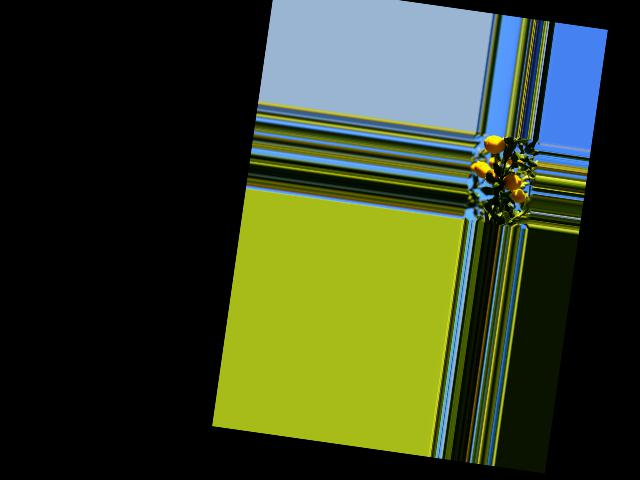lemon: (479, 132, 509, 157)
